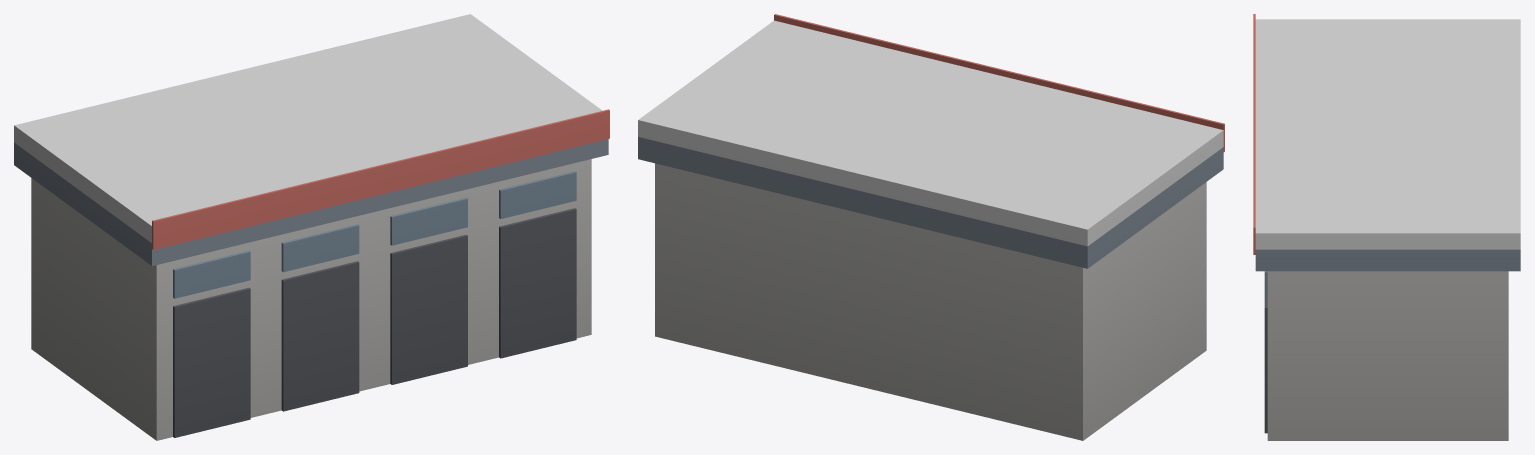
Rendered from pit_building.glb.
The picture shows the model from 3 angles, left to right: view 1: azimuth 30°, elevation 25°; view 2: azimuth 150°, elevation 25°; view 3: azimuth 270°, elevation 25°; orthographic projection. The views are drawn at different scales.
Parts seen in each view (by area): view 1: root; view 2: root; view 3: root.
Boxes of the visible parts, left/top/right/bottom form: root: left=14, top=14, right=609, bottom=440; root: left=638, top=14, right=1224, bottom=440; root: left=1253, top=14, right=1520, bottom=440.
Size of the model in its own units: 8.4 by 4 by 4.44.
